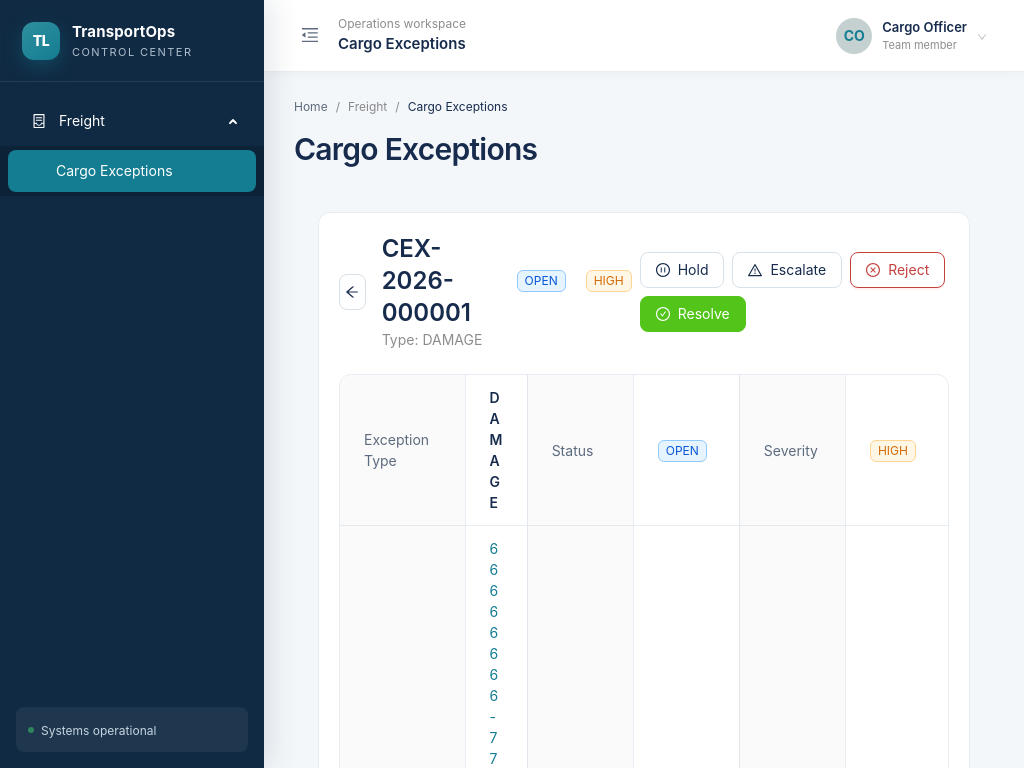
Test case: Cargo Exception Pages › renders exception details page with history and action buttons
The image size is (1024, 768).
Expected: the heading "CEX-2026-000001" is shown, [382,234,471,327]
What coordinates should you click on to do the following:
click the button "Resolve"
I would click on:
 (693, 314)
Its box is [640,296,746,332].
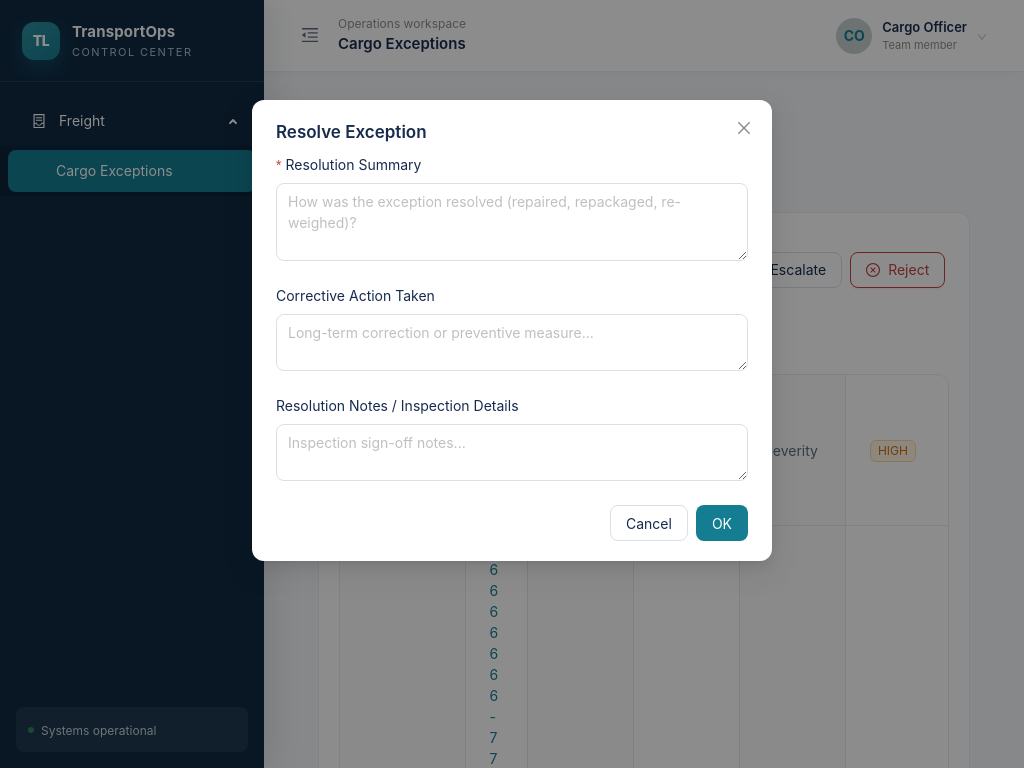
Result: the text "Resolution Summary" is shown at [276,154,436,175]
